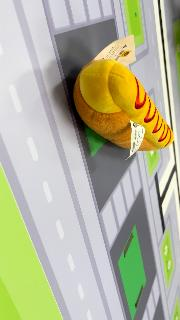hotdog: (72, 58, 174, 156)
